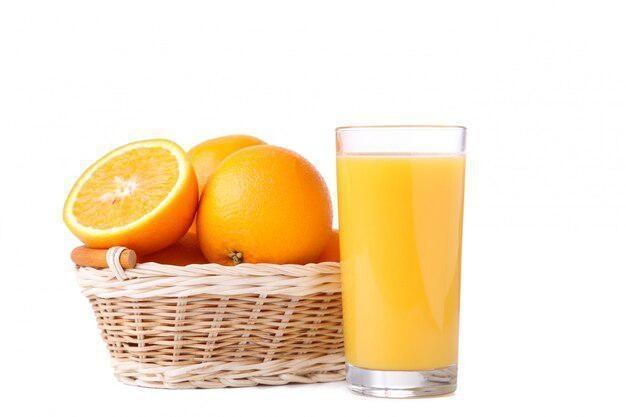glass-normal: (332, 121, 470, 399)
